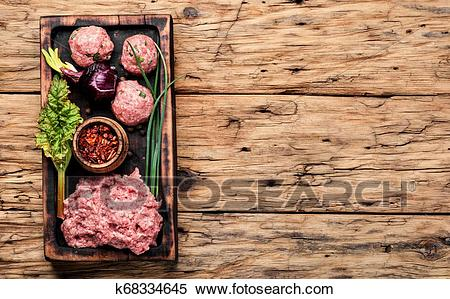ground_beef: (52, 166, 170, 250), (111, 77, 156, 128), (66, 21, 106, 70), (127, 32, 158, 69)
